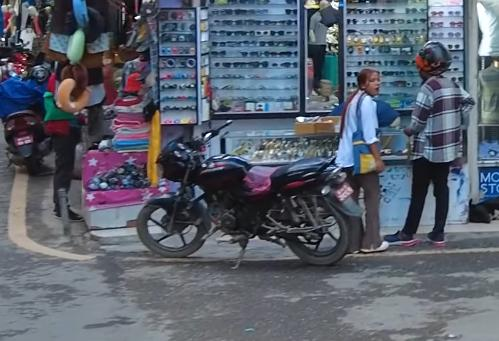bike: (135, 122, 362, 274)
